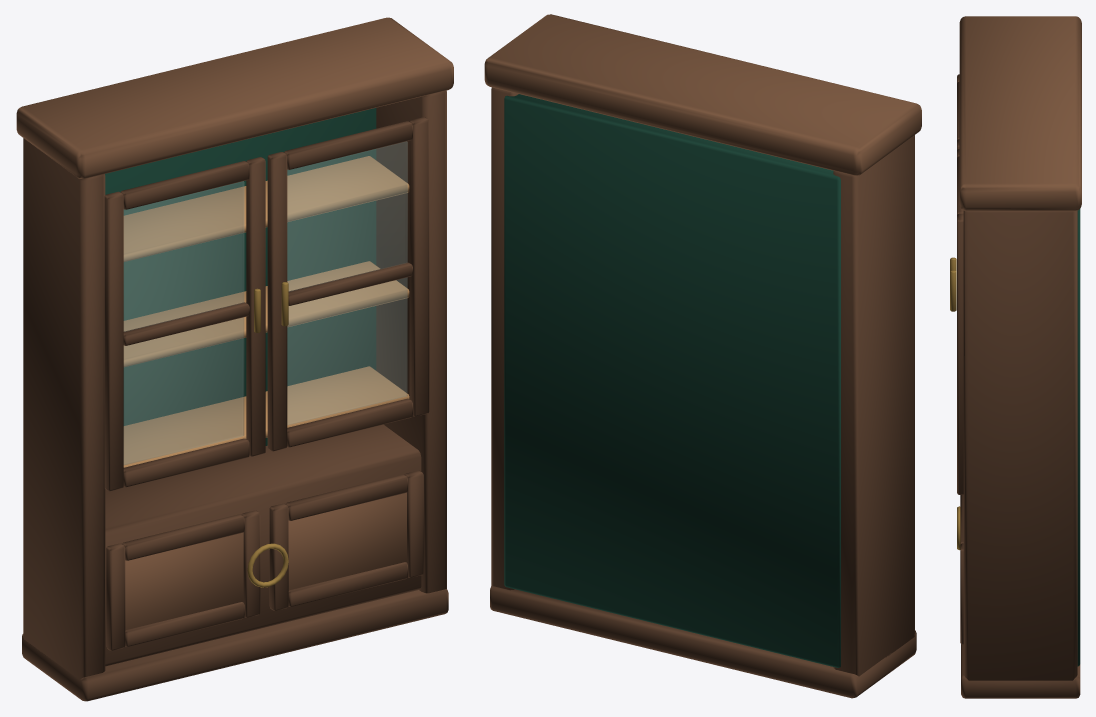
File: asset_070_trophy_display_cabinet.glb
3 renders of one model, left to right at view 1: azimuth 30°, elevation 25°; view 2: azimuth 150°, elevation 25°; view 3: azimuth 270°, elevation 25°, orthographic. The views are drawn at different scales.
Parts seen in each view (by area): view 1: MESH_DisplayCabinetSideSet, MESH_DisplayCrown, MESH_DisplayBack, MESH_DisplayLowerDoorSet, MESH_DisplayDoorRightGlass, MESH_DisplayDoorLeftGlass, MESH_DisplayShelfSet, MESH_LowerStorageCarcass, MESH_DisplayDoorRightWoodFrame, MESH_DisplayDoorLeftWoodFrame, MESH_DisplayPlinth, MESH_DisplayCrest; view 2: MESH_DisplayBack, MESH_DisplayCabinetSideSet, MESH_DisplayCrown, MESH_DisplayPlinth; view 3: MESH_DisplayCabinetSideSet, MESH_DisplayCrown, MESH_DisplayPlinth, MESH_DisplayDoorRightWoodFrame, MESH_DisplayBack, MESH_DisplayLowerDoorSet, MESH_DisplayDoorPull2.
Part boxes in pixels (box(x1,y1,x2,y2)): MESH_DisplayCabinetSideSet: box(23, 90, 446, 680); MESH_DisplayCrown: box(16, 17, 453, 178); MESH_DisplayBack: box(105, 108, 376, 445); MESH_DisplayLowerDoorSet: box(106, 470, 423, 650); MESH_DisplayDoorRightGlass: box(287, 141, 407, 424); MESH_DisplayDoorLeftGlass: box(124, 181, 243, 464); MESH_DisplayShelfSet: box(123, 156, 409, 467); MESH_LowerStorageCarcass: box(105, 424, 421, 666); MESH_DisplayDoorRightWoodFrame: box(267, 117, 429, 451); MESH_DisplayDoorLeftWoodFrame: box(104, 157, 265, 491); MESH_DisplayPlinth: box(22, 589, 448, 701); MESH_DisplayCrest: box(247, 543, 288, 587); MESH_DisplayBack: box(504, 94, 840, 667); MESH_DisplayCabinetSideSet: box(491, 87, 914, 676); MESH_DisplayCrown: box(484, 14, 921, 175); MESH_DisplayPlinth: box(490, 585, 916, 698); MESH_DisplayCabinetSideSet: box(963, 210, 1077, 680); MESH_DisplayCrown: box(959, 16, 1081, 210); MESH_DisplayPlinth: box(961, 644, 1080, 698); MESH_DisplayDoorRightWoodFrame: box(957, 149, 963, 494); MESH_DisplayBack: box(1077, 209, 1080, 666); MESH_DisplayLowerDoorSet: box(960, 495, 963, 644); MESH_DisplayDoorPull2: box(950, 270, 956, 311).
Size of the model in its own units: 1.5 by 2.1 by 0.485.
